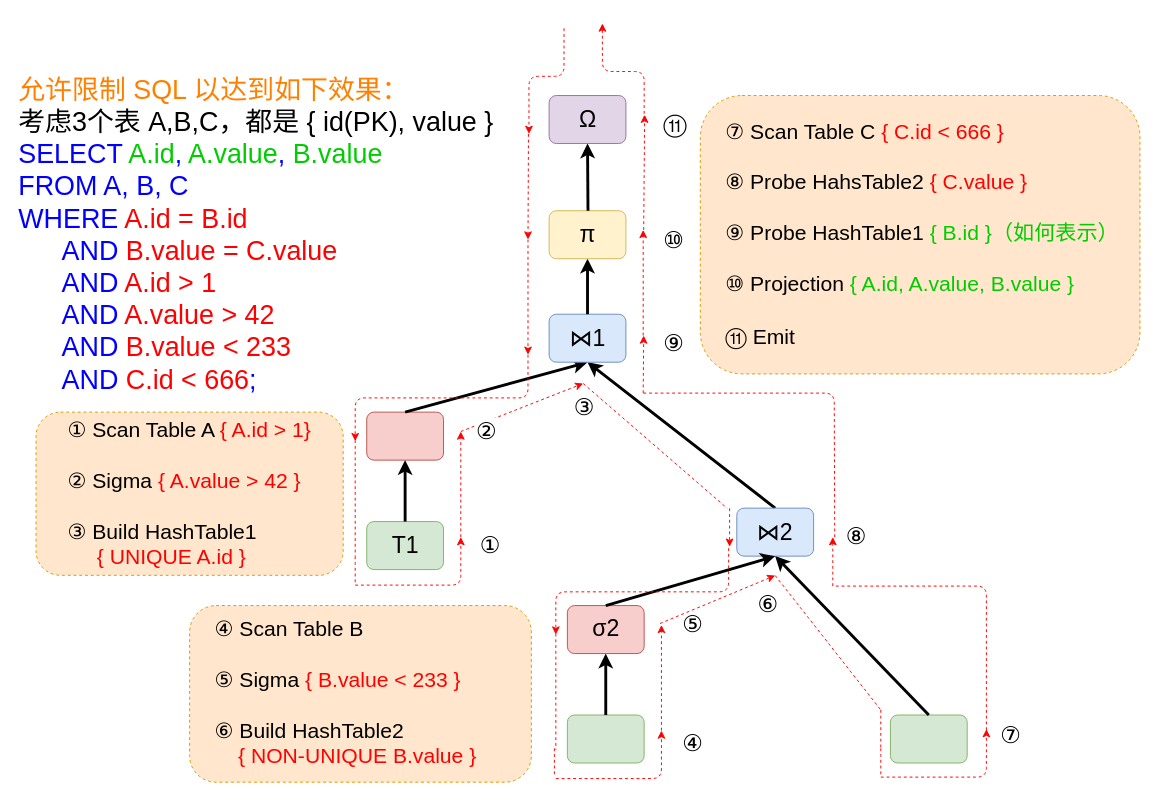
The diagram is 1157 pixels wide and 804 high, and some of its shapes have lost their labels. Each missing label, with the centre of its shape:
"T2" belongs at point 605,738.
"T3" belongs at point 928,738.
"σ1" belongs at point 405,435.
